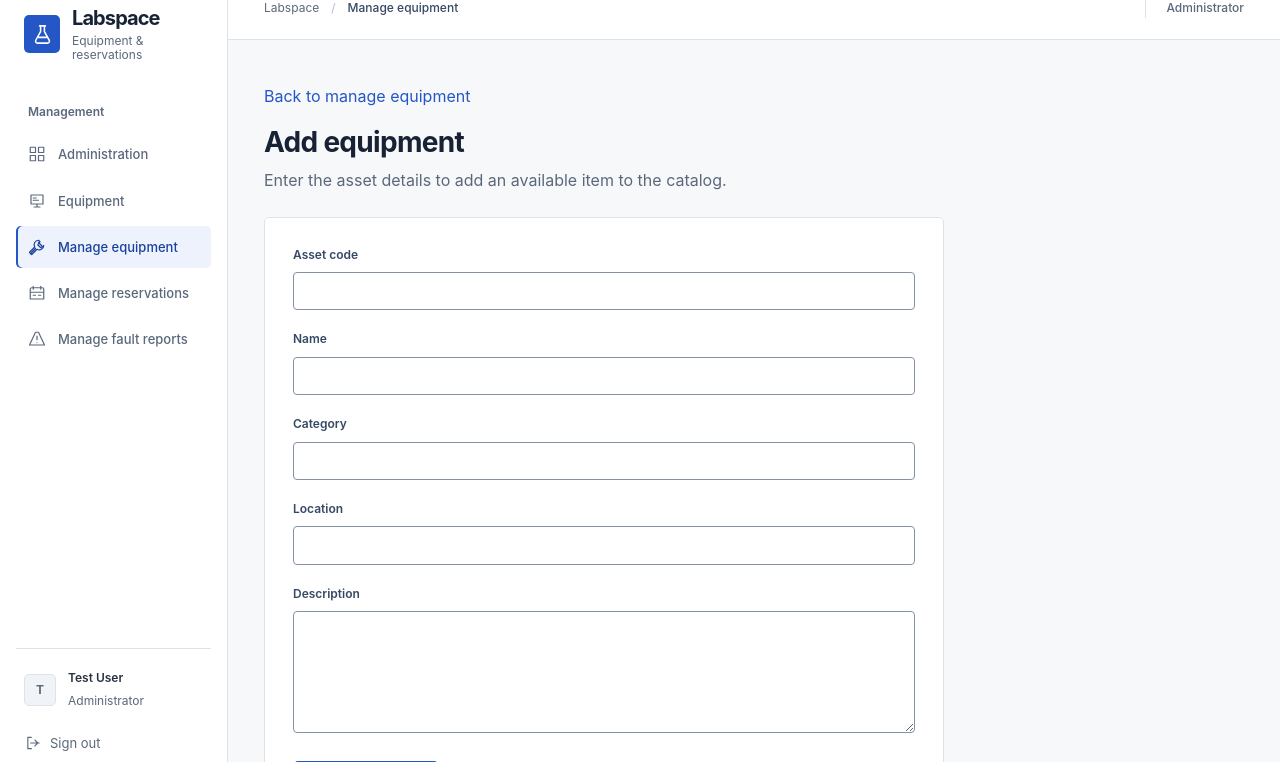
admins create equipment using only metadata and refetch the management list
Type "SCOPE-01" into the field labelled "Asset code" at x=604, y=291, box top-left (293, 272), bottom-right (915, 310)
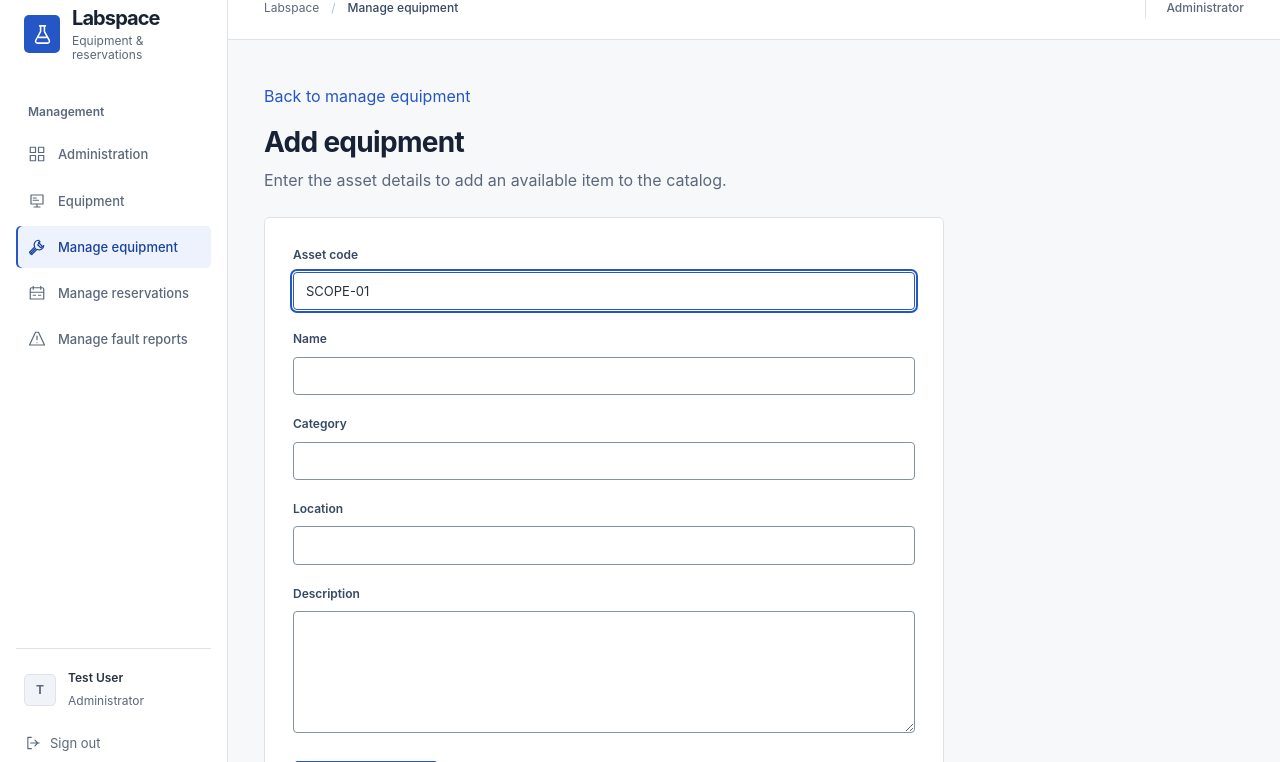
Type "Microscope" into the field labelled "Name" at x=604, y=376, box top-left (293, 357), bottom-right (915, 395)
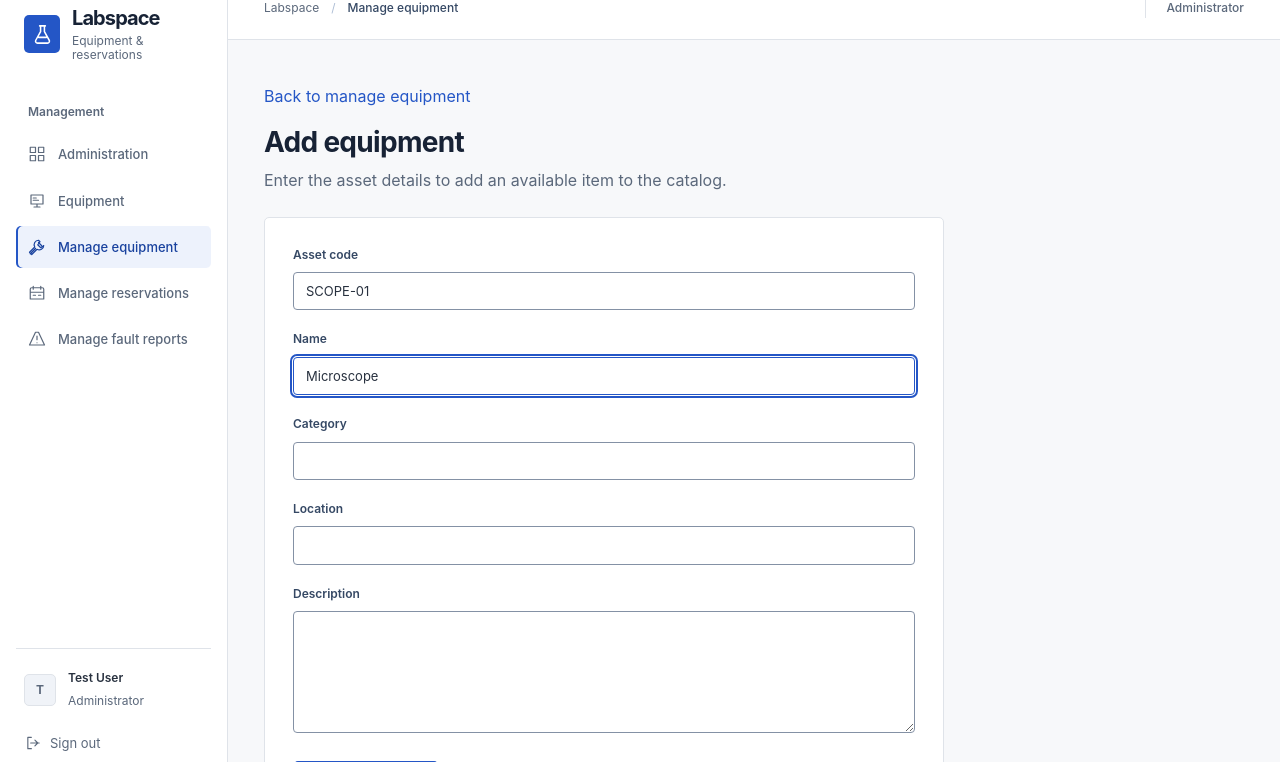
Type "Optics" into the field labelled "Category" at x=604, y=461, box top-left (293, 442), bottom-right (915, 480)
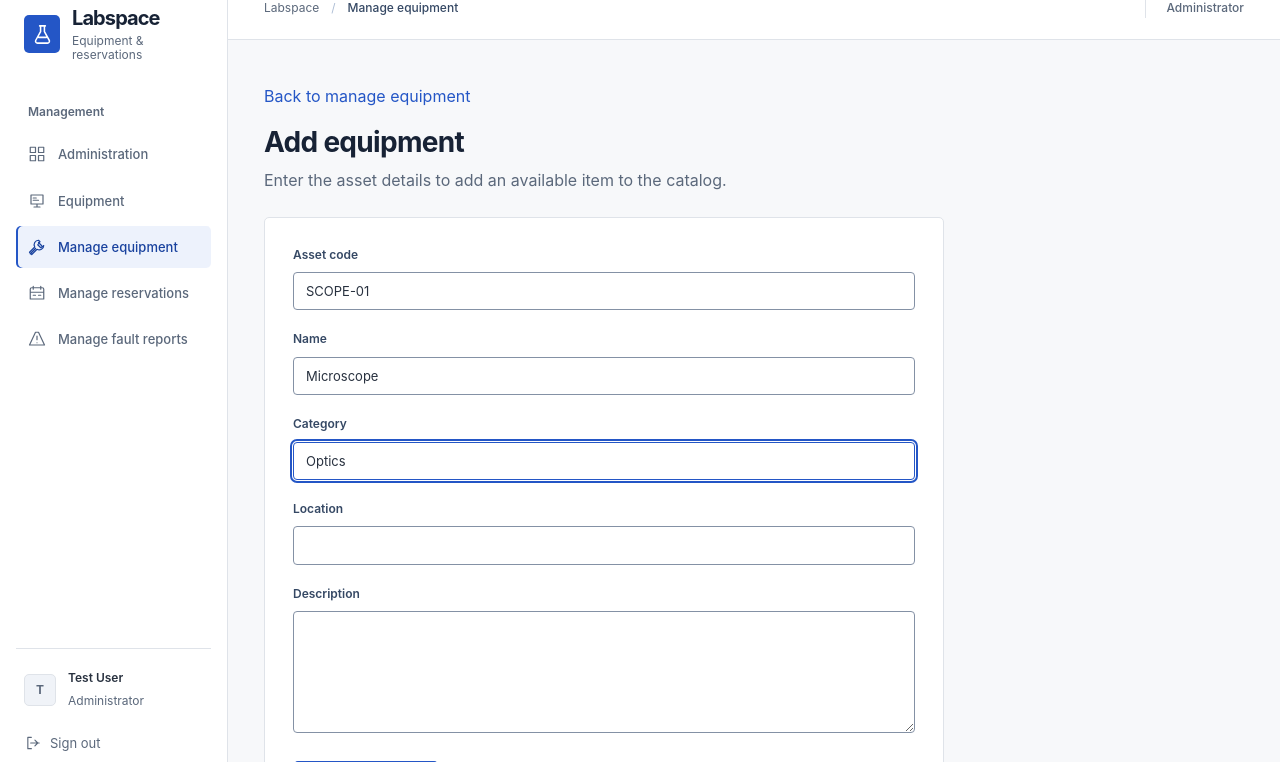
Type "Lab A" into the field labelled "Location" at x=604, y=545, box top-left (293, 526), bottom-right (915, 564)
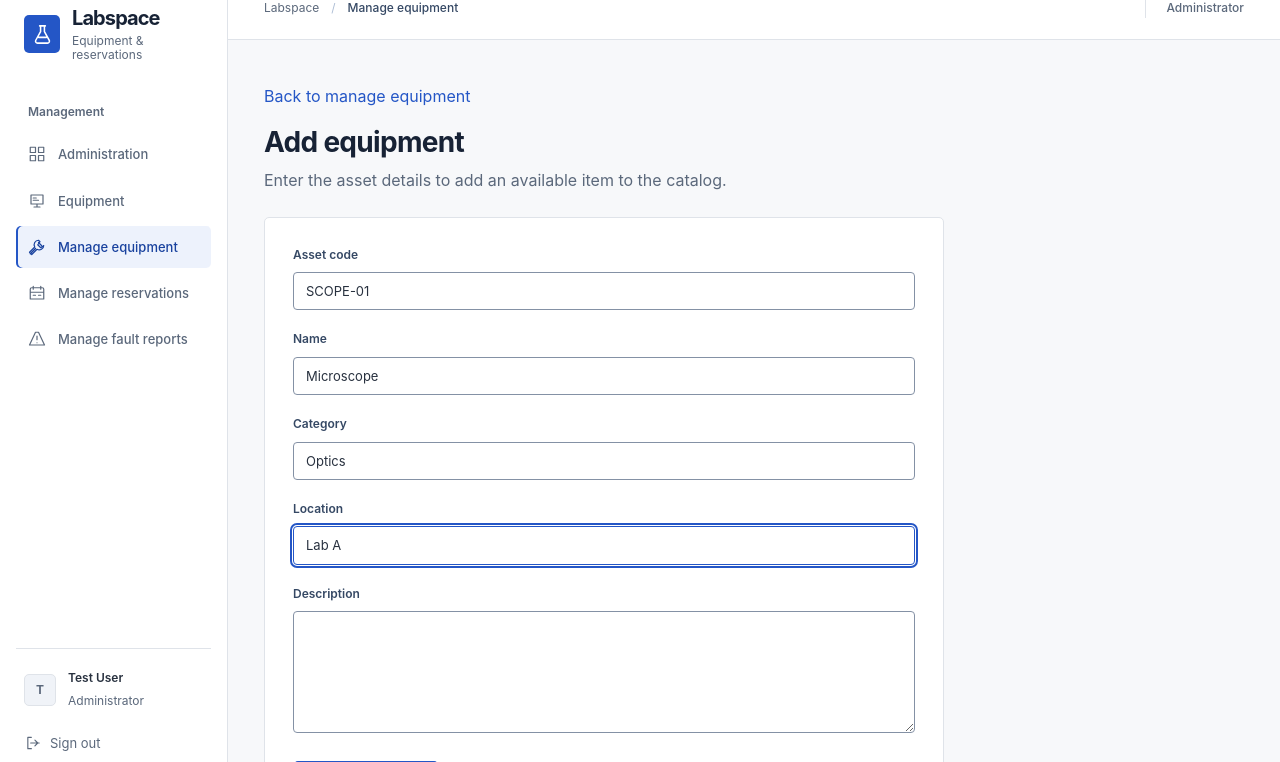
Type "Teaching microscope" into the text box labelled "Description" at x=604, y=672, box top-left (293, 611), bottom-right (915, 733)
(page scrolled)
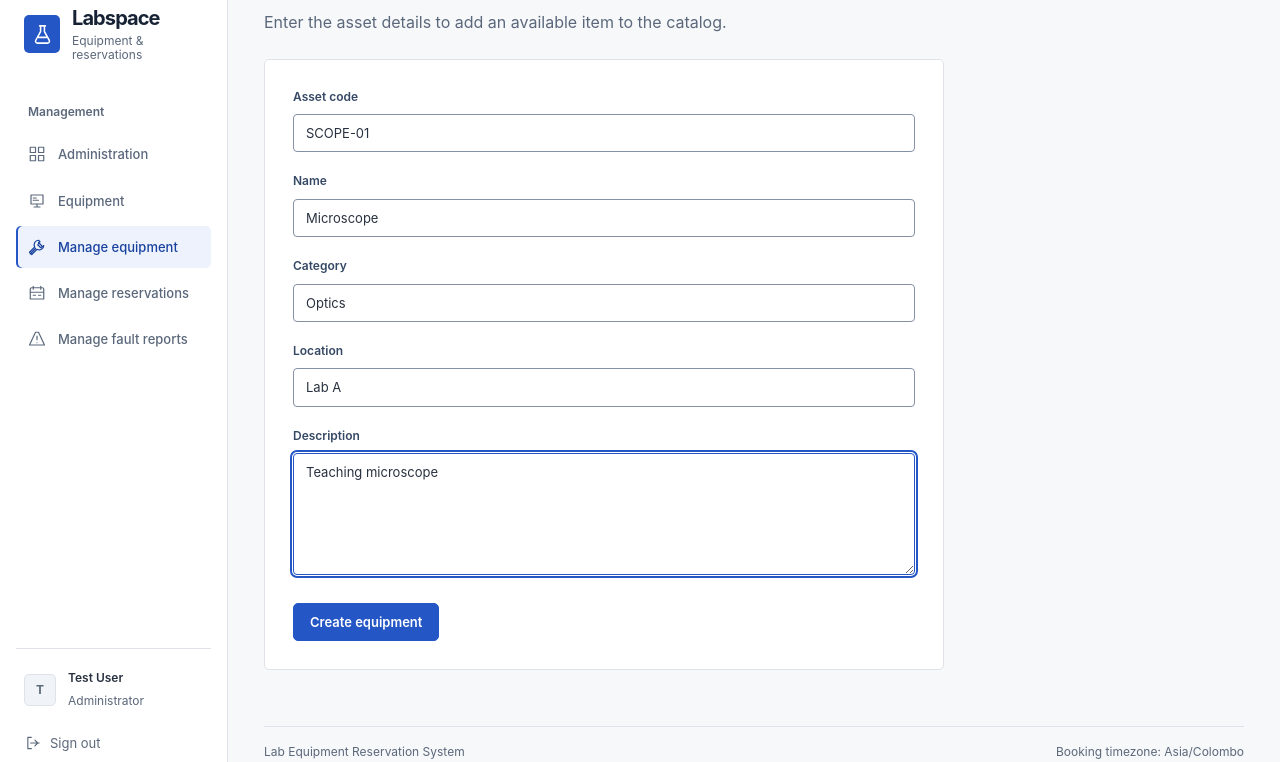
Click the button "Create equipment" at x=366, y=622, box top-left (293, 603), bottom-right (439, 641)
(page scrolled)
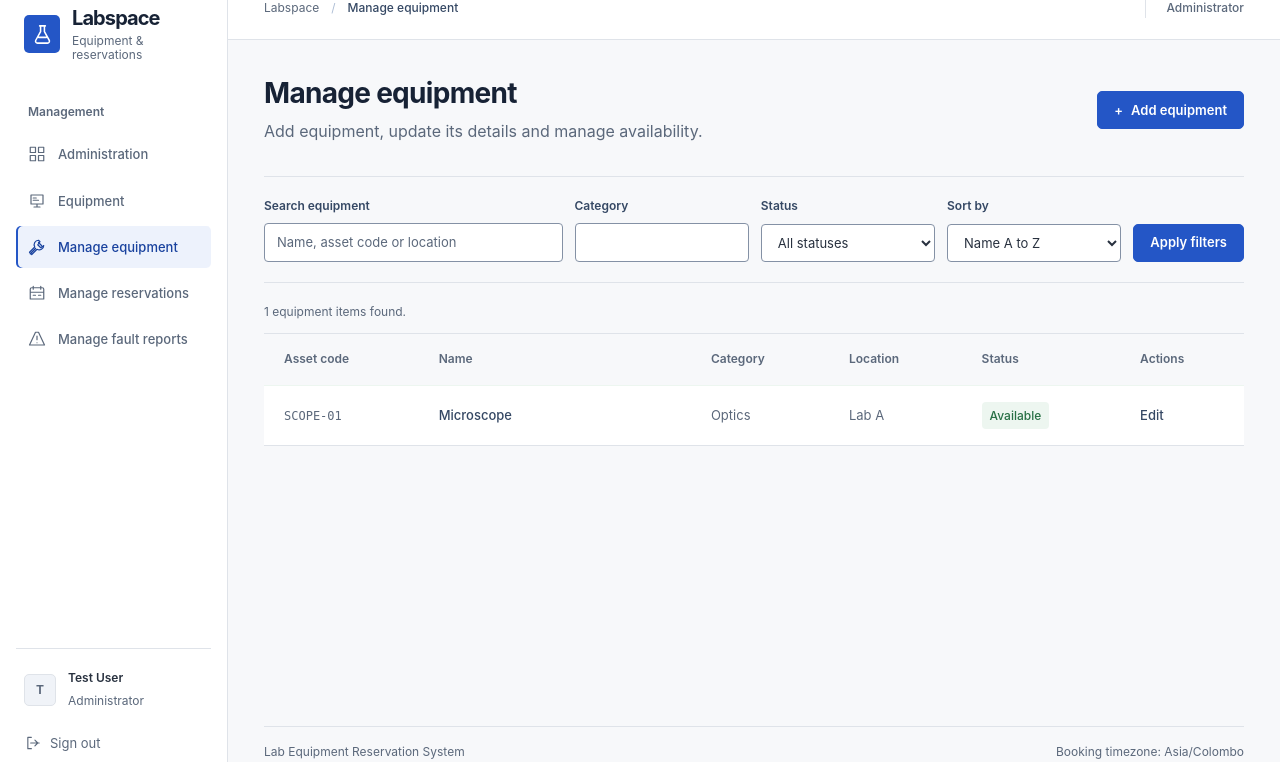
Expected: the heading "Manage equipment" is shown, top-left (264, 76), bottom-right (517, 110)
Expected: the link "Microscope" is shown, top-left (439, 407), bottom-right (512, 423)
